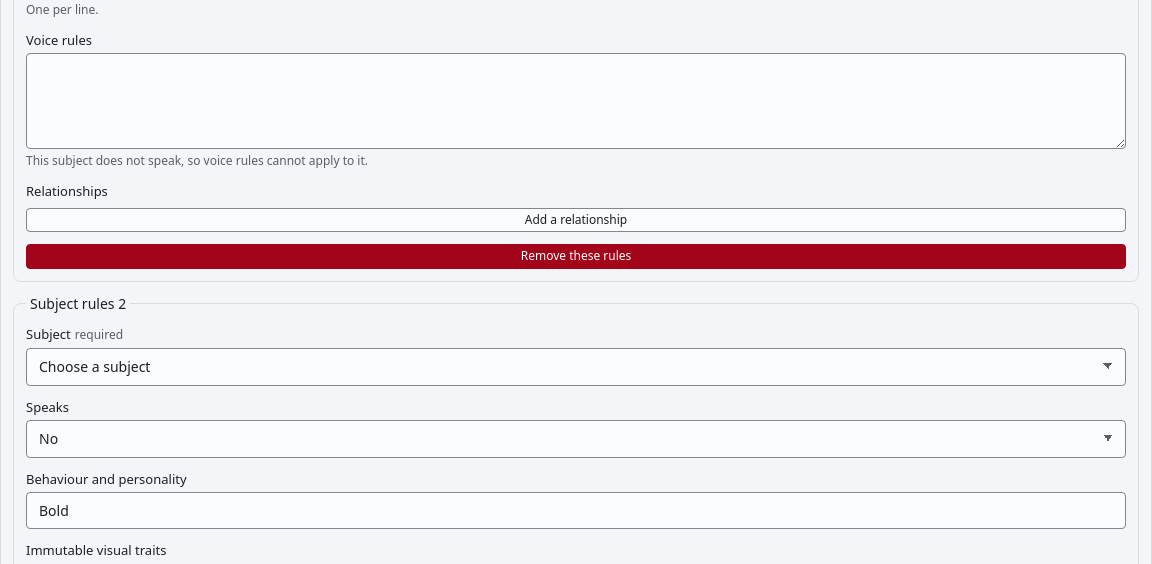
BibleSubjectRulesEditor › removes only the block whose control was pressed
This screenshot has width=1152, height=564.
(page scrolled)
Click the button with aria-label "Remove subject rules 1".
click(576, 257)  # box left=26, top=244, right=1126, bottom=269
(page scrolled)
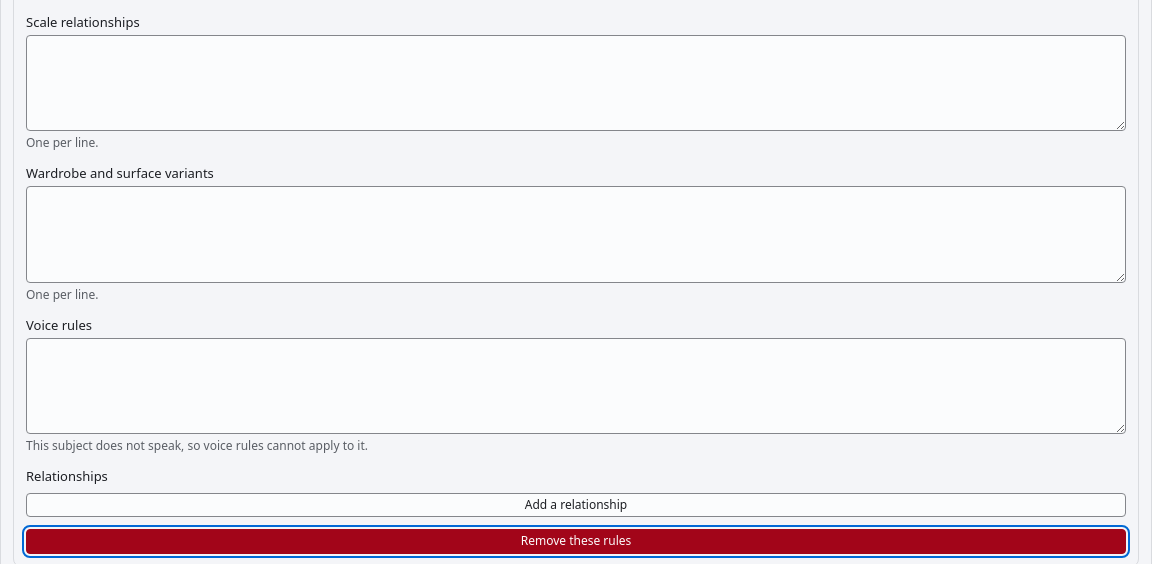
Now the text "Subject rules 2" is gone
